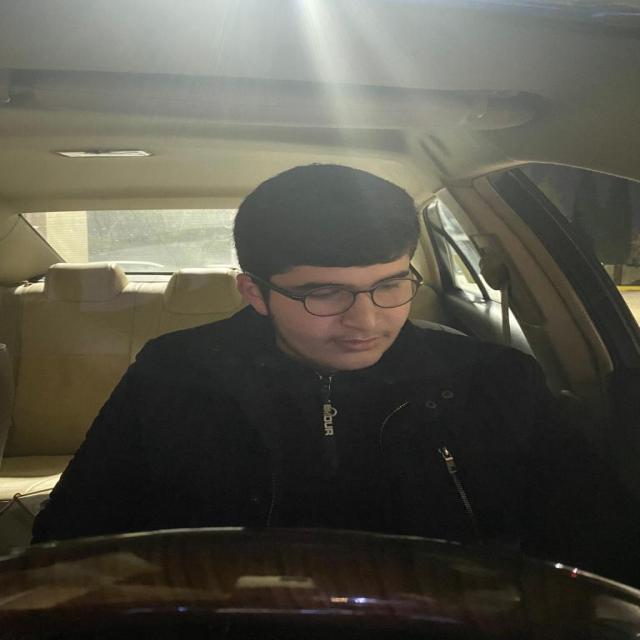drowsy: (218, 150, 444, 380)
